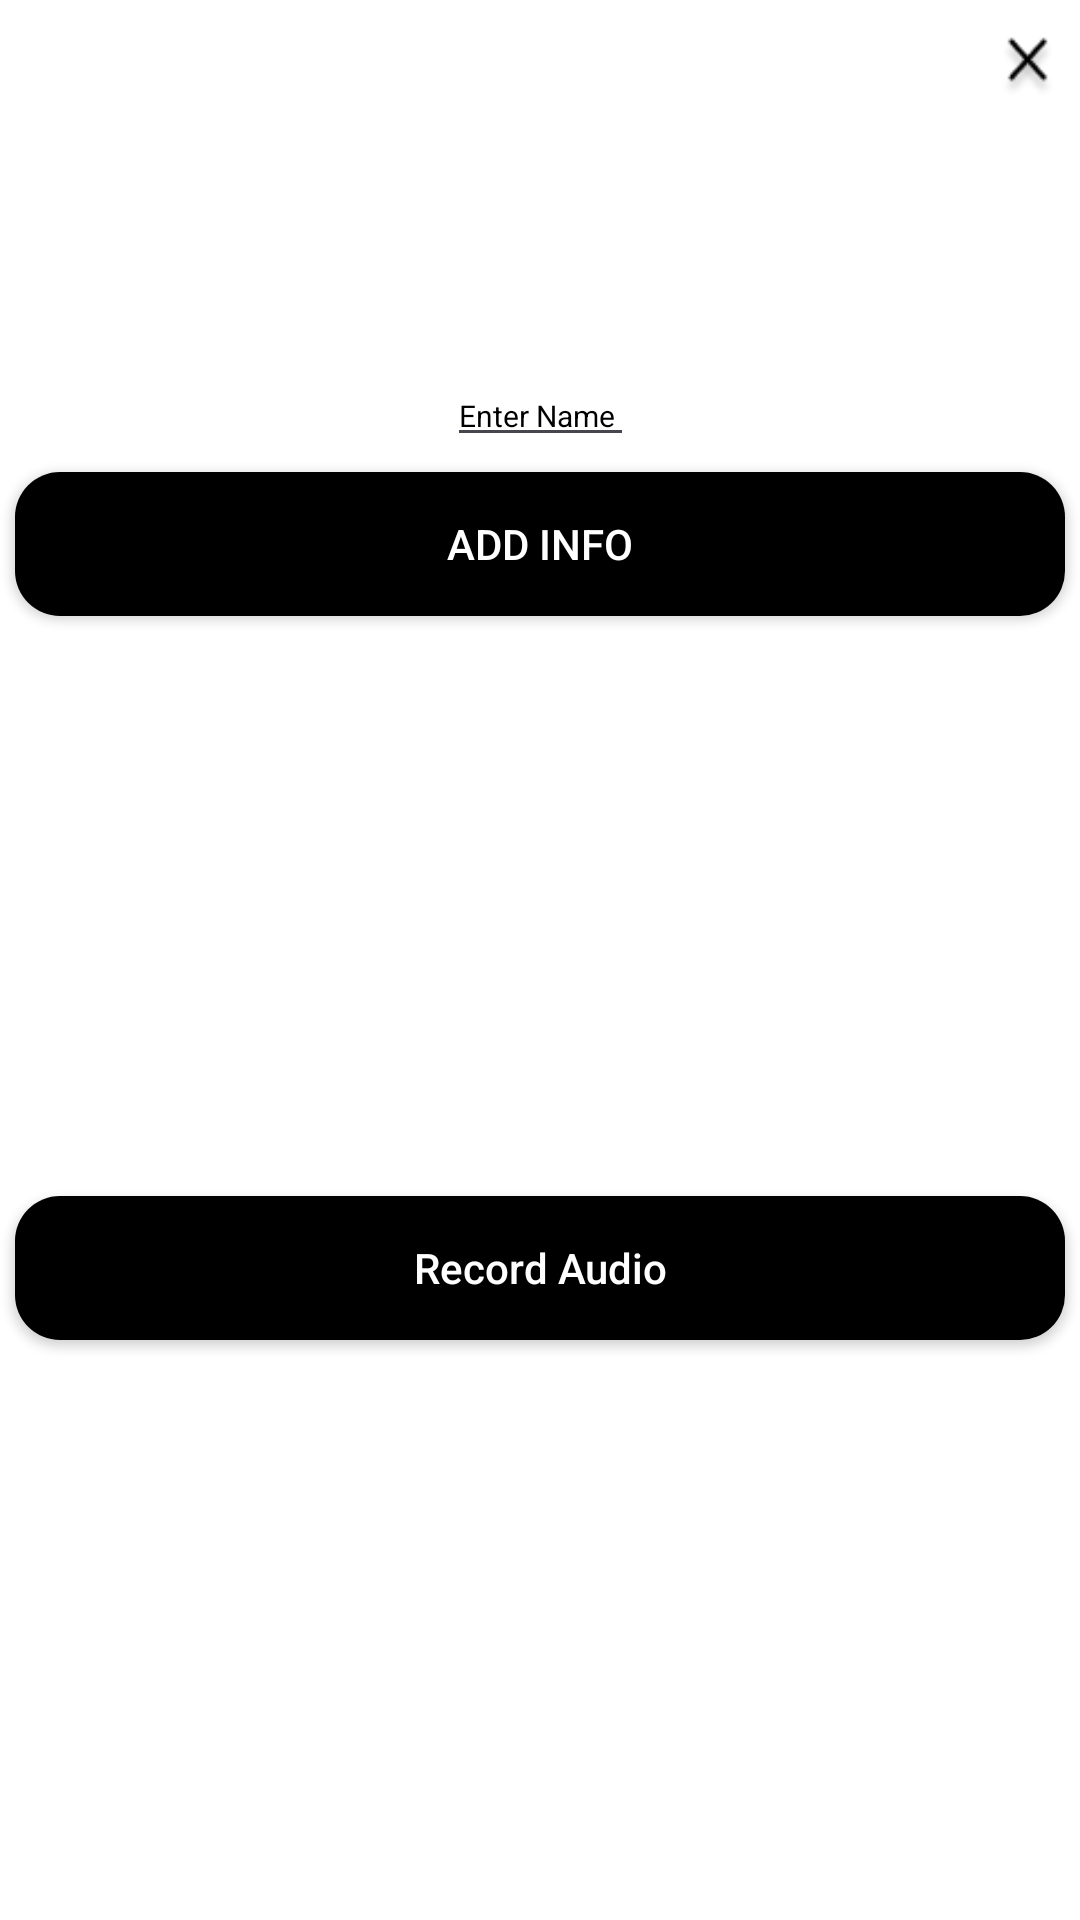

Screen size 1080x1920. Icon name, then its box in pixels as (x1, y1, x2, y2):
delete: (1007, 37, 1048, 85)
